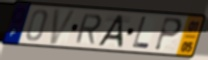0: (25, 8, 50, 42)
A: (96, 13, 125, 49)
L: (131, 16, 151, 50)
P: (152, 17, 184, 53)
R: (73, 13, 103, 46)
V: (48, 8, 79, 46)
